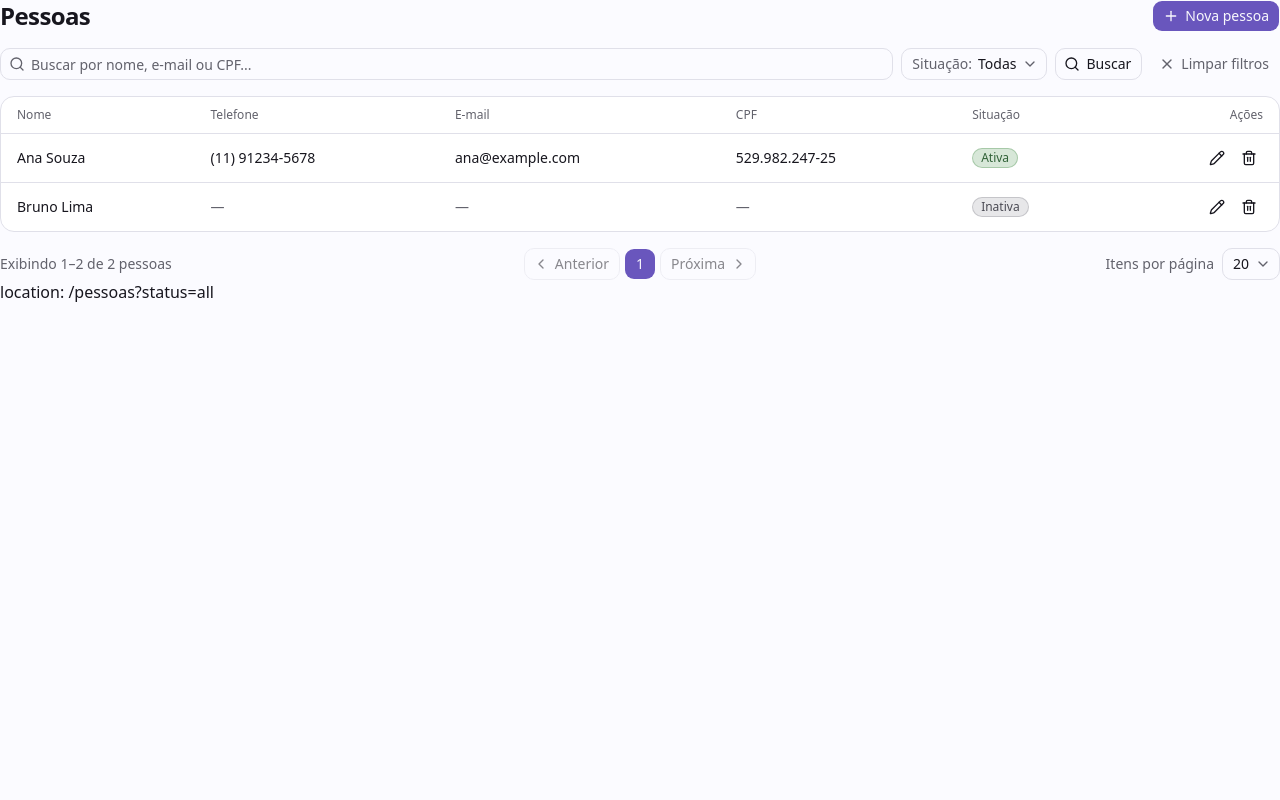
Test: ClientDeletePage › closes without deleting when Cancelar is clicked, with the filters still in the address
The width and height of the screenshot is (1280, 800).
expect the link "Ana Souza" is shown: met, box 17,148 -> 85,167
Click the link named "Excluir Ana Souza".
click(1249, 158)  # box 1241,150 -> 1257,166
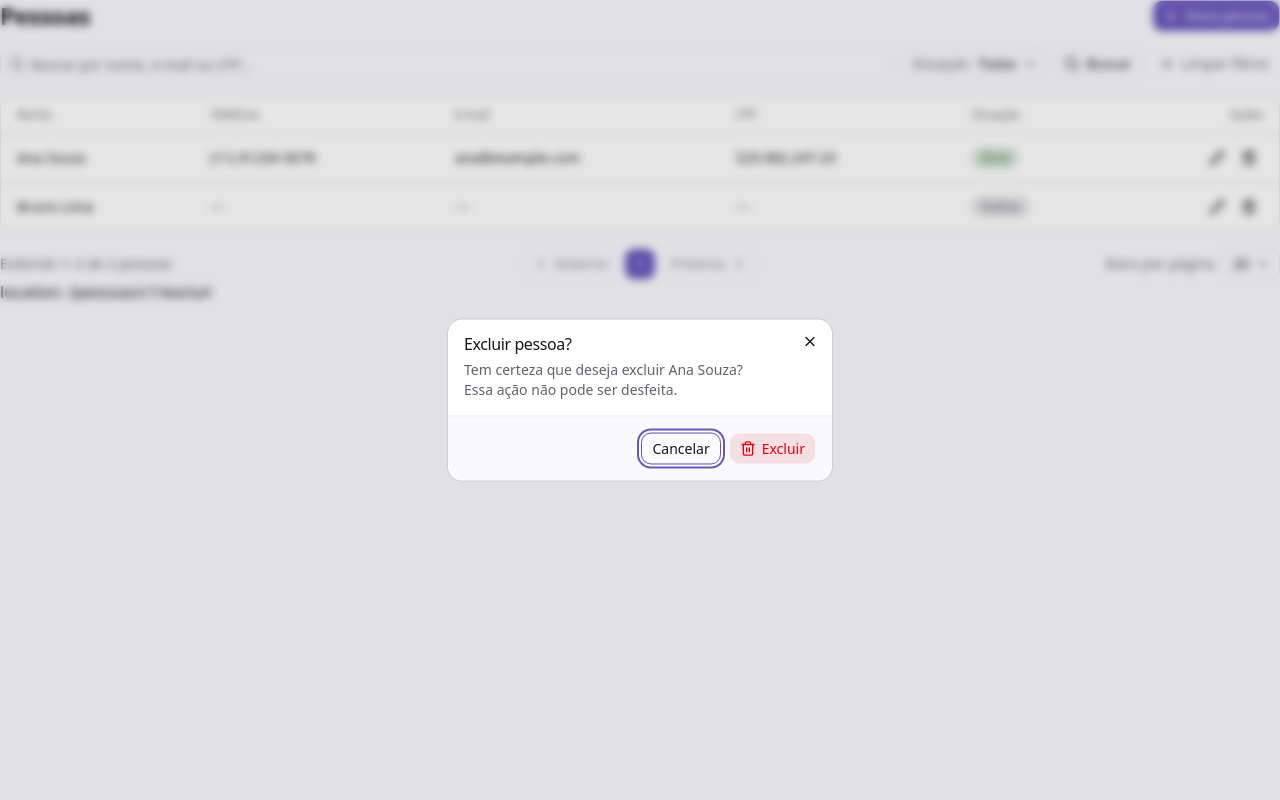
expect the text "Tem certeza que deseja excluir Ana Souza?" is shown: met, box 464,360 -> 743,378
Click the button "Cancelar".
click(681, 448)  # box 642,432 -> 721,464
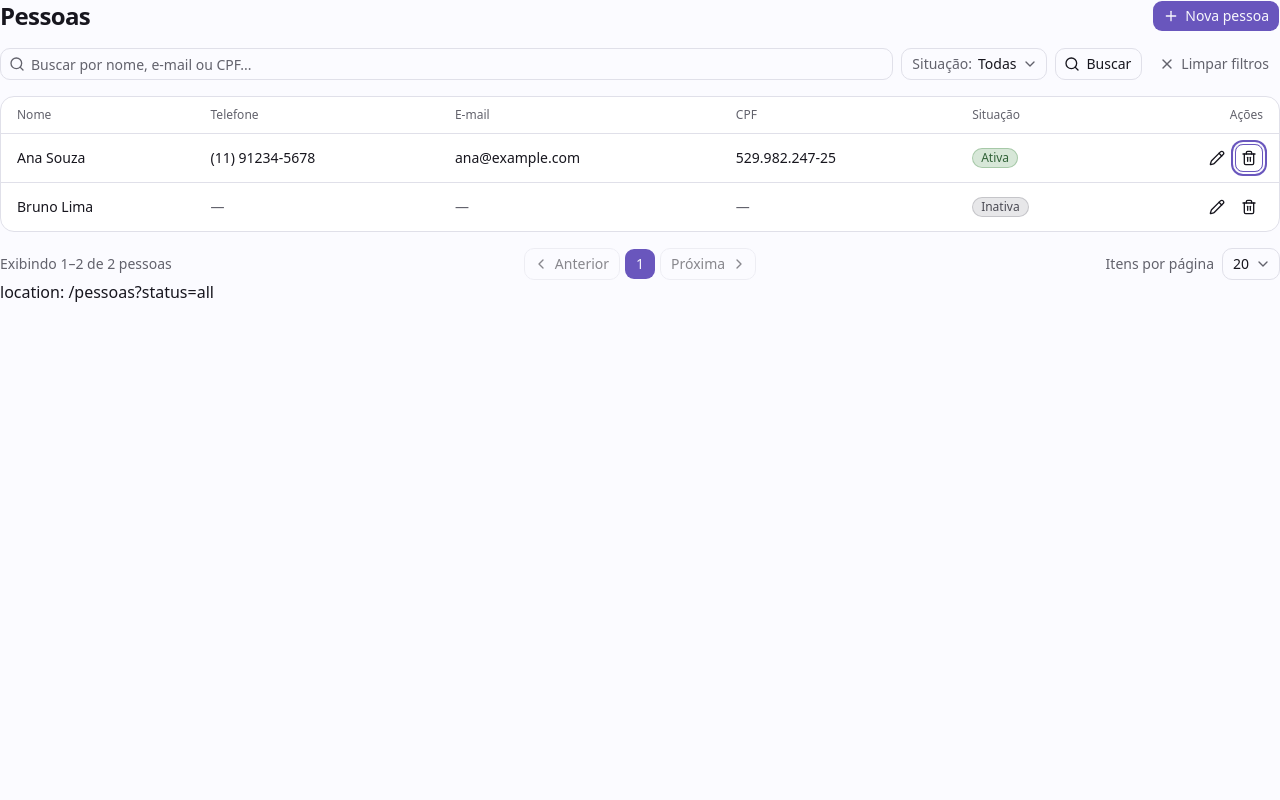
expect the link "Ana Souza" is shown: met, box 17,148 -> 85,167
expect the text with test id "location" reads "location: /pessoas?status=all": met, box 0,281 -> 214,303
